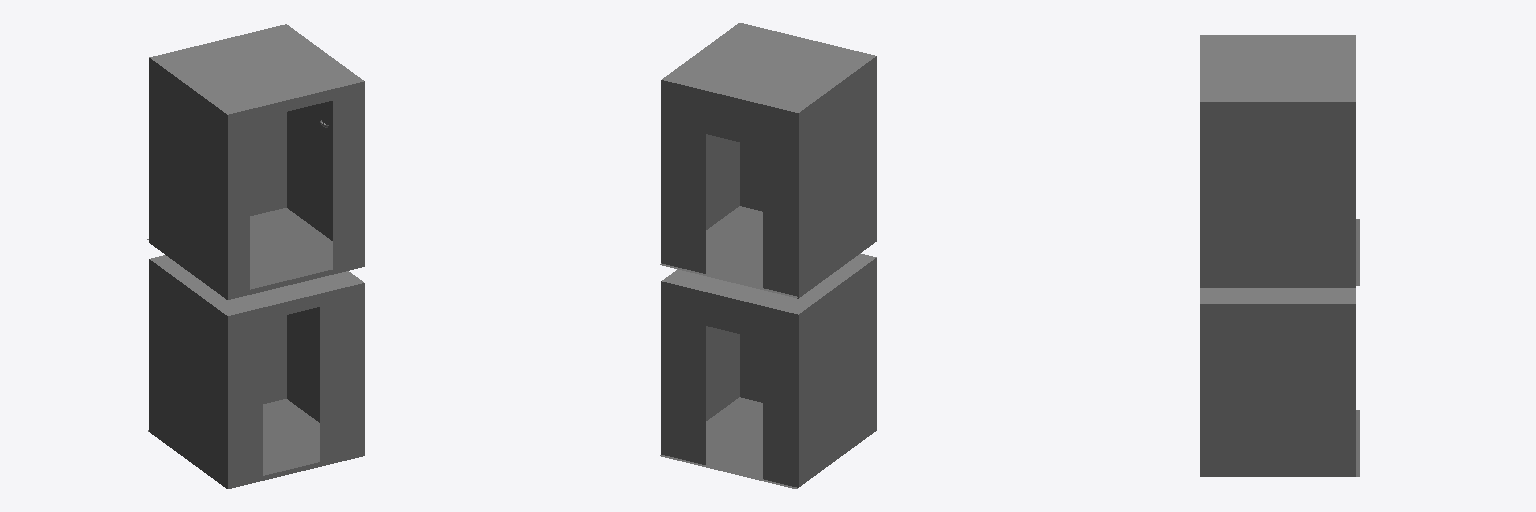
File: HallSmall.obj
3 renders of one model, left to right at view 1: azimuth 30°, elevation 25°; view 2: azimuth 150°, elevation 25°; view 3: azimuth 270°, elevation 25°, orthographic.
Parts seen in each view (by area): view 1: Body.001; view 2: Body.001; view 3: Body.001.
Part boxes in pixels (x1,y1,x2,y2): Body.001: (147,24,364,488); Body.001: (660,23,876,488); Body.001: (1200,35,1359,476).
Bounding box in the file's own units: 1.31 × 3.42 × 1.33.